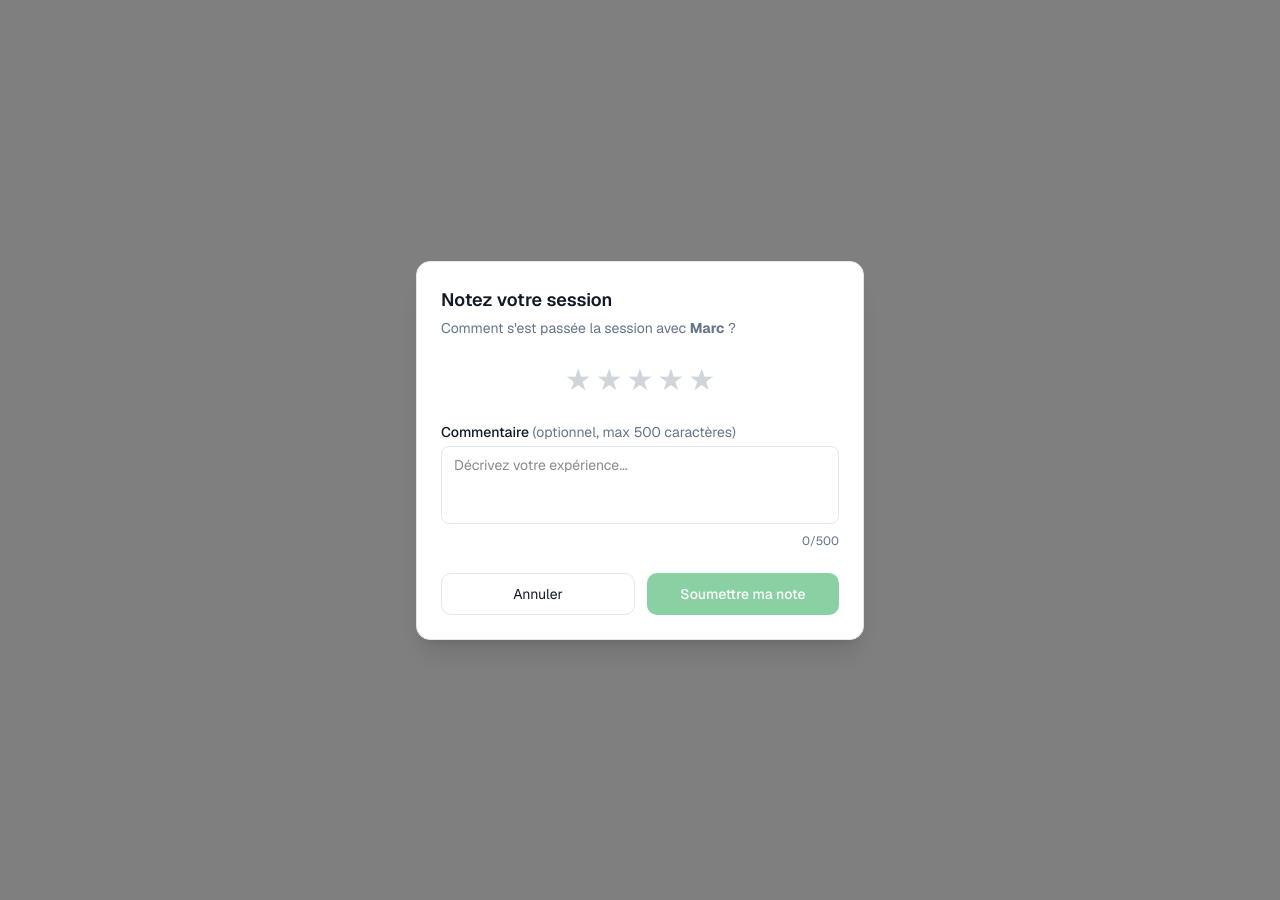
Test: RatingModal — étape don après la note › sans canDonate, se ferme automatiquement après la note
Click the button named "5 étoiles" at (702, 380), box [688,362,715,398]
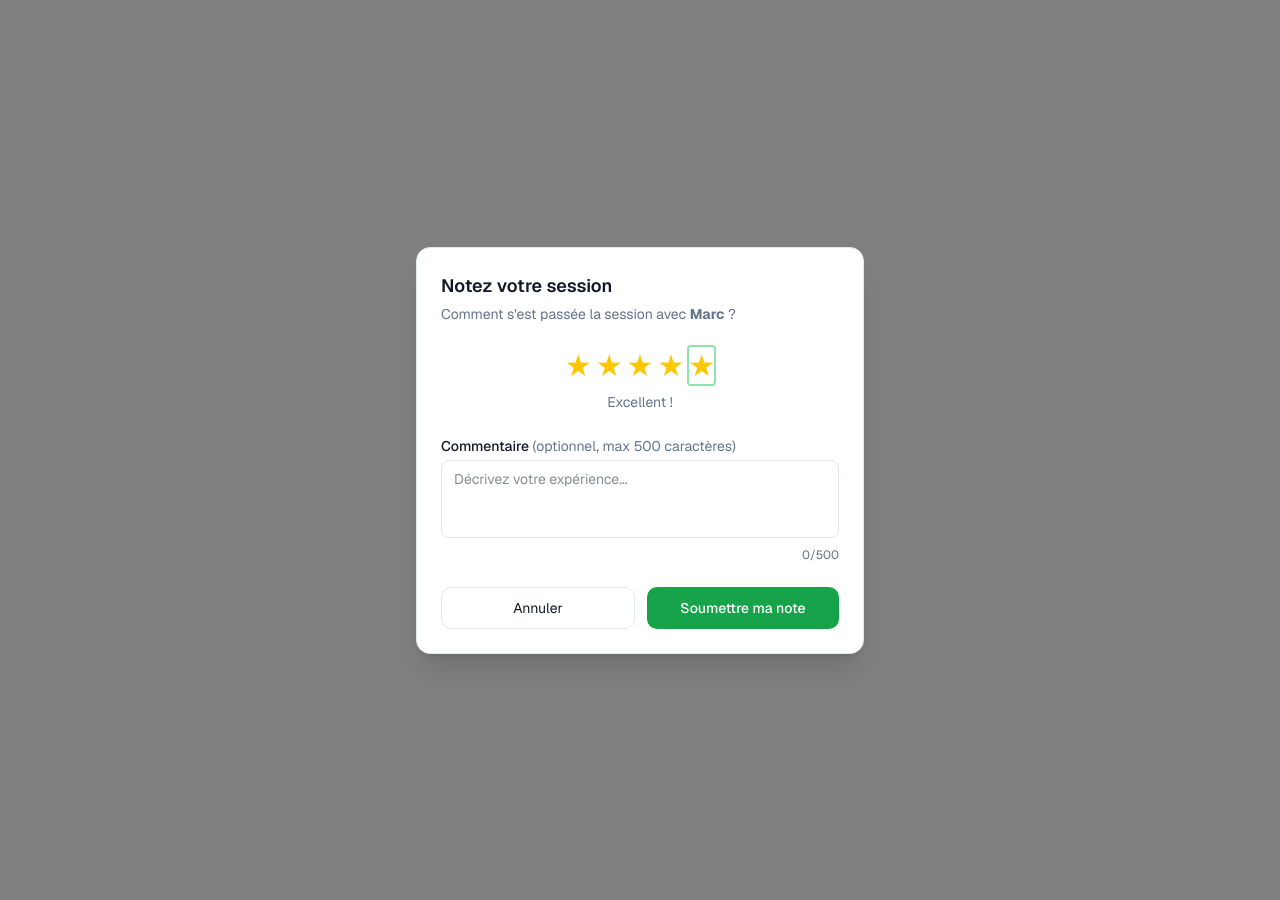
Click the button "Soumettre ma note" at (743, 608), box [647,586,839,628]
Wait 2000 ms
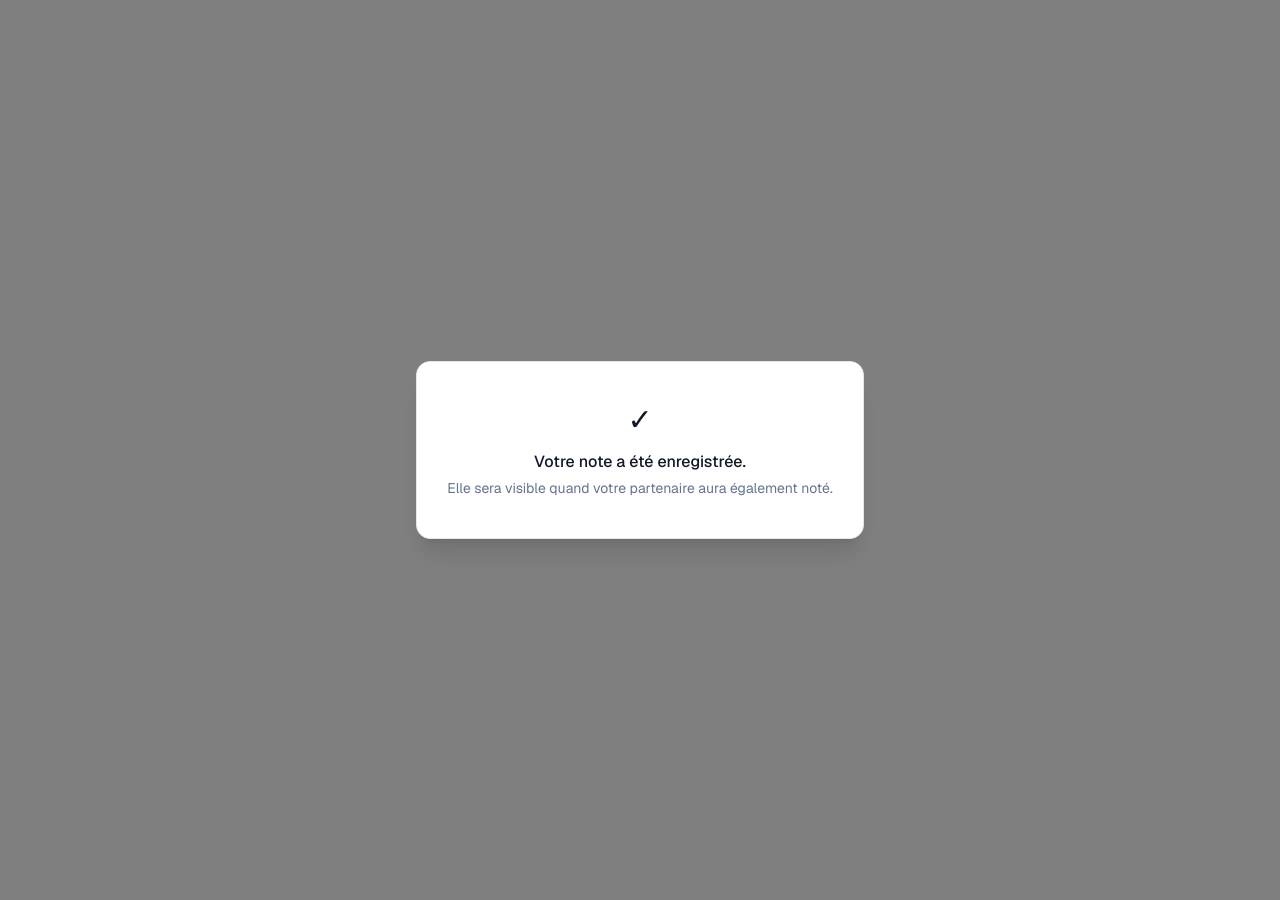
Expected: the text "Votre note a été enregistrée." is shown, [534,451,746,472]
